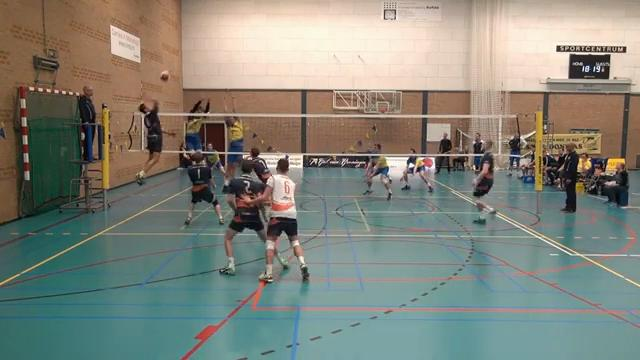Attack: (122, 97, 165, 188)
Block: (214, 86, 247, 189), (178, 88, 214, 162)
Player: (244, 158, 308, 282), (219, 159, 266, 274), (136, 96, 174, 184), (185, 152, 223, 224), (472, 140, 495, 223), (223, 116, 243, 192), (363, 155, 391, 200), (185, 98, 209, 150), (400, 156, 432, 191), (248, 147, 271, 184), (249, 147, 271, 183), (249, 147, 270, 182), (206, 143, 224, 173), (365, 144, 380, 176)
ball: (156, 70, 170, 82)
